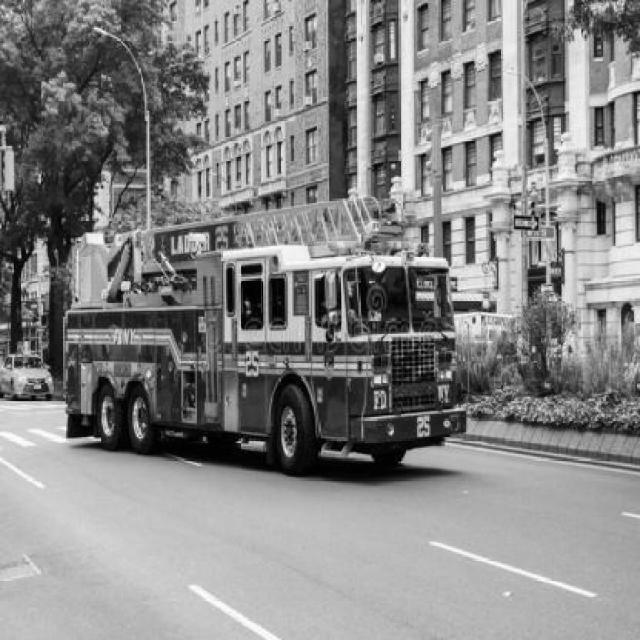Fire Truck: (63, 195, 469, 476)
